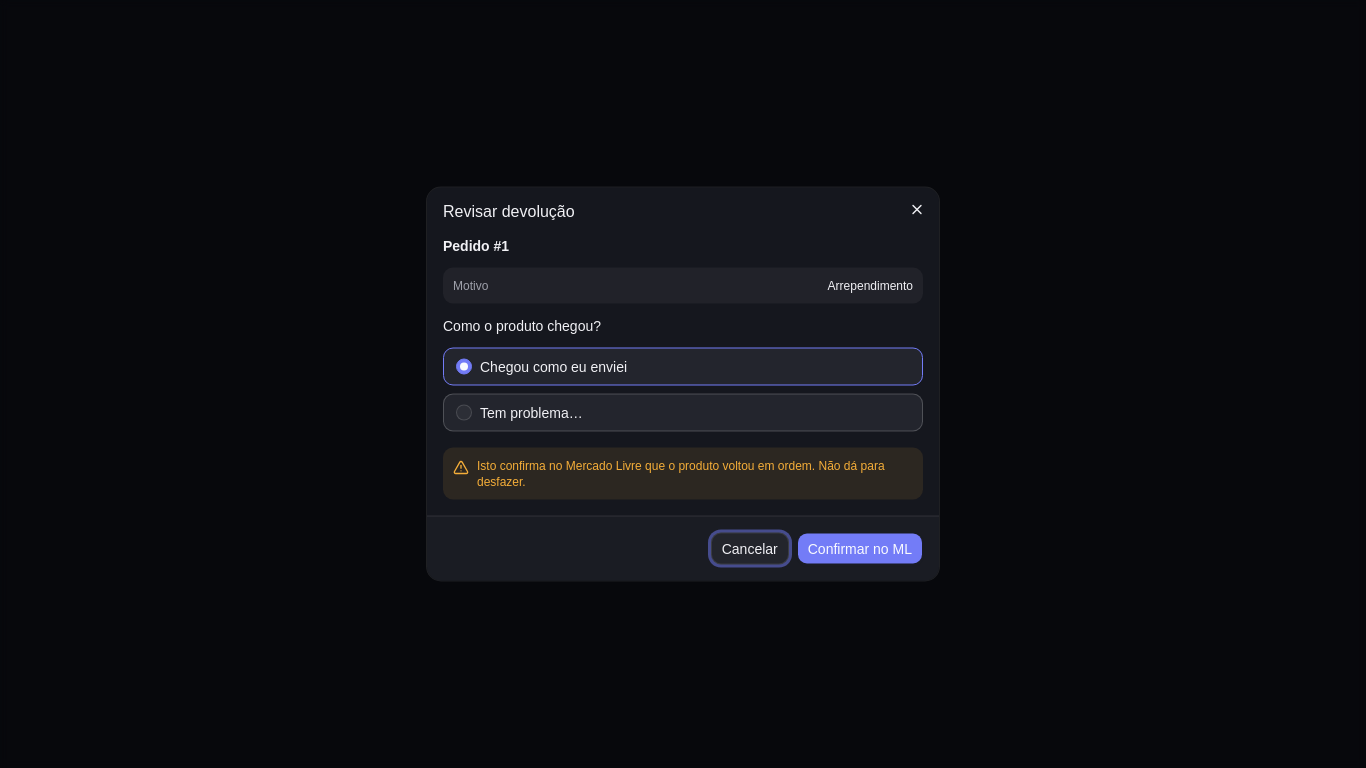
DialogoRevisarDevolucao › motivo sem foto obrigatória (SRF5): com mensagem habilita; sem mensagem não
Click the radio button named "Tem problema…" next to "Tem problema…": (464, 412) 456,404 -> 472,420
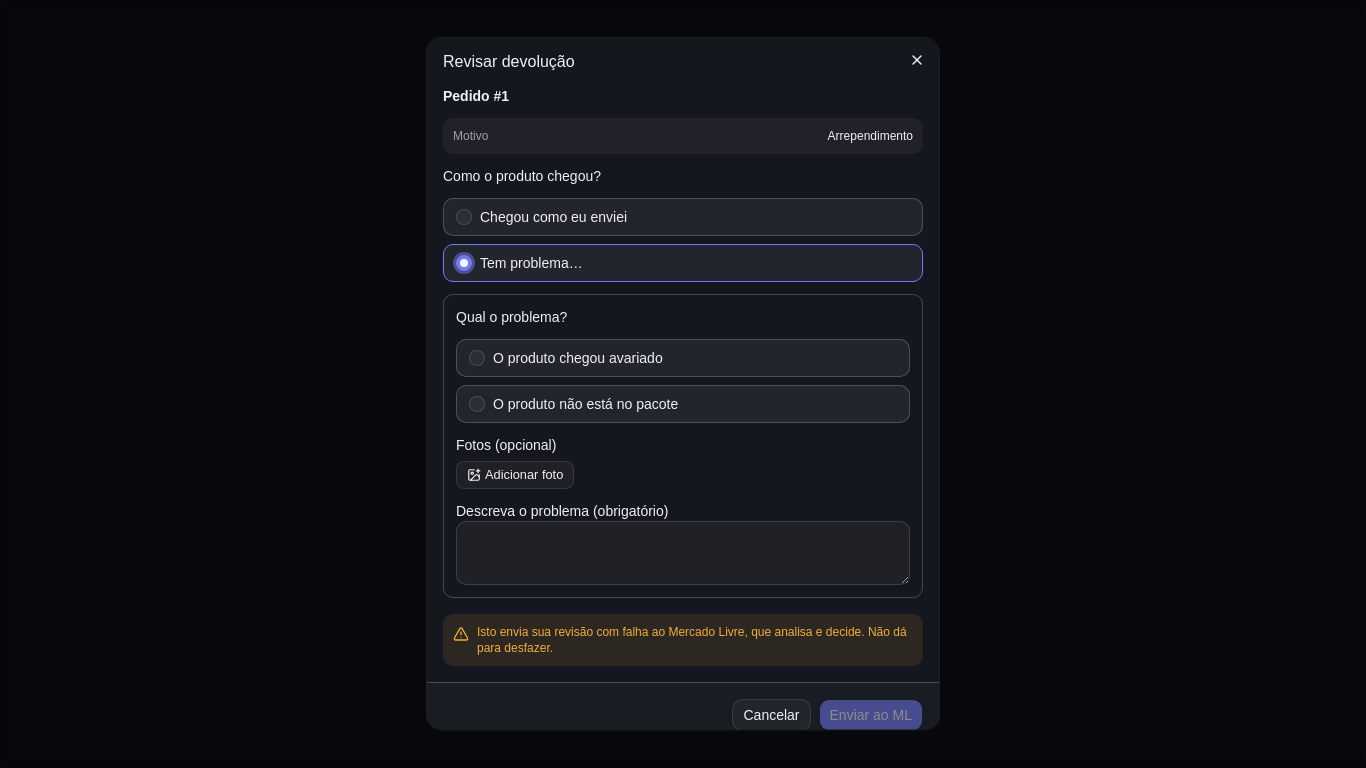
Click the radio button named "O produto não está no pacote" next to "O produto não está no pacote": (477, 404) 469,396 -> 485,412
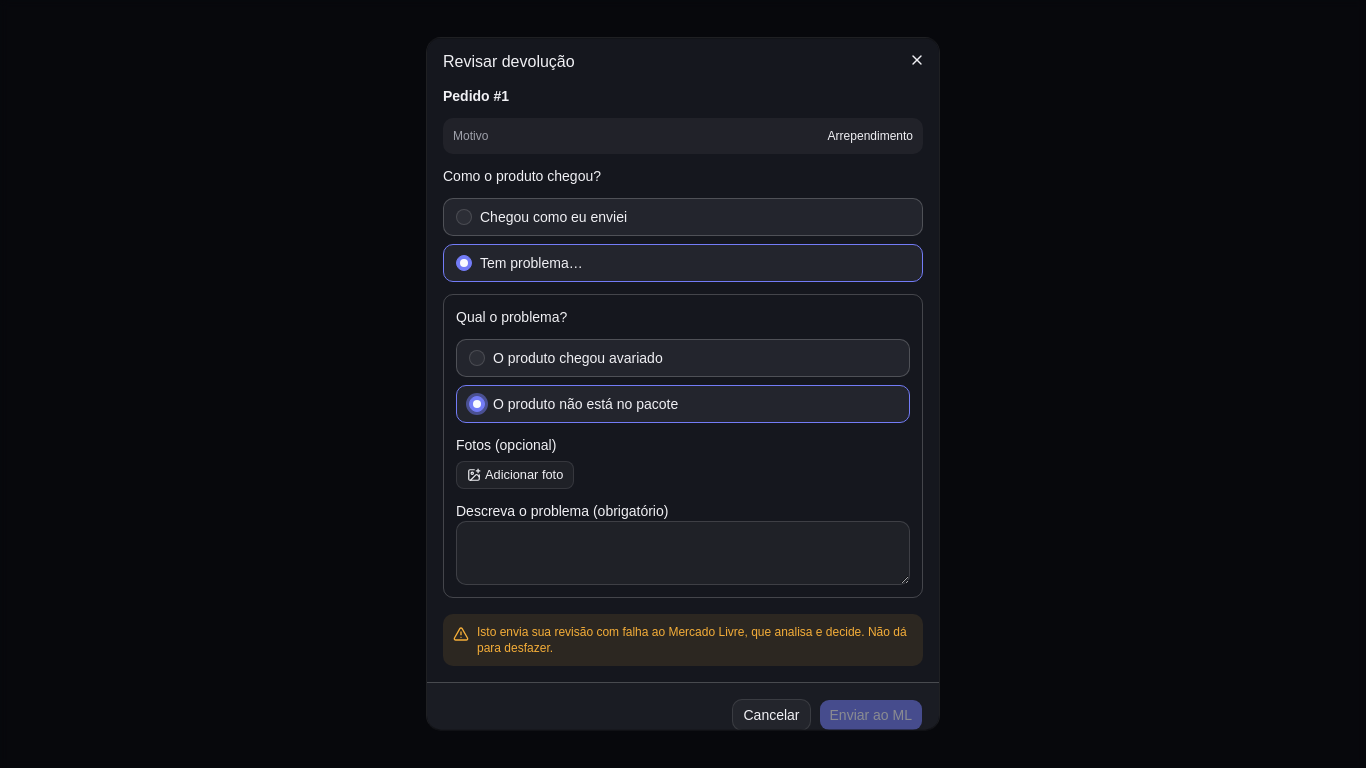
Now the button "Enviar ao ML" is disabled, box 818,699 -> 923,730
In the text box labelled "Descreva o problema (obrigatório)": (683, 553) 456,521 -> 910,585, type "Caixa vazia"
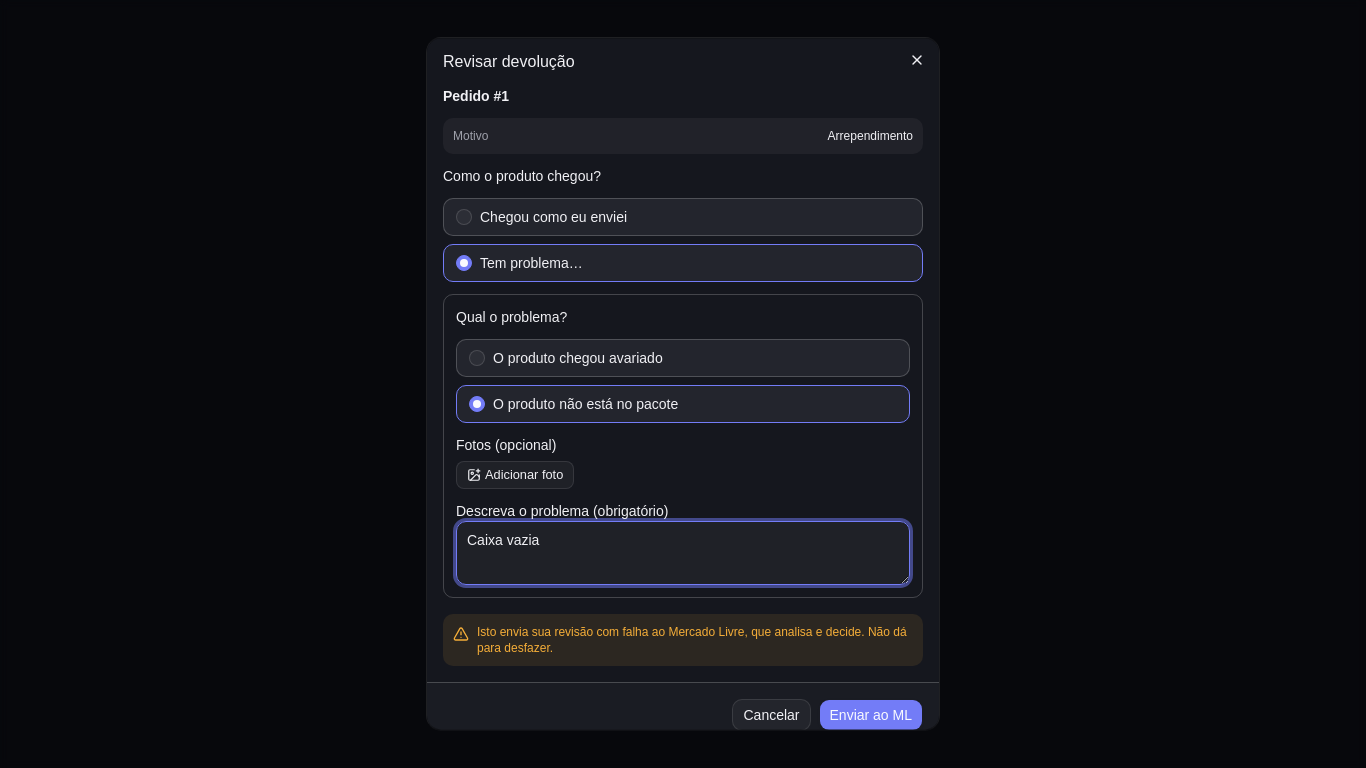
Now the button "Enviar ao ML" is enabled, box 818,699 -> 923,730
